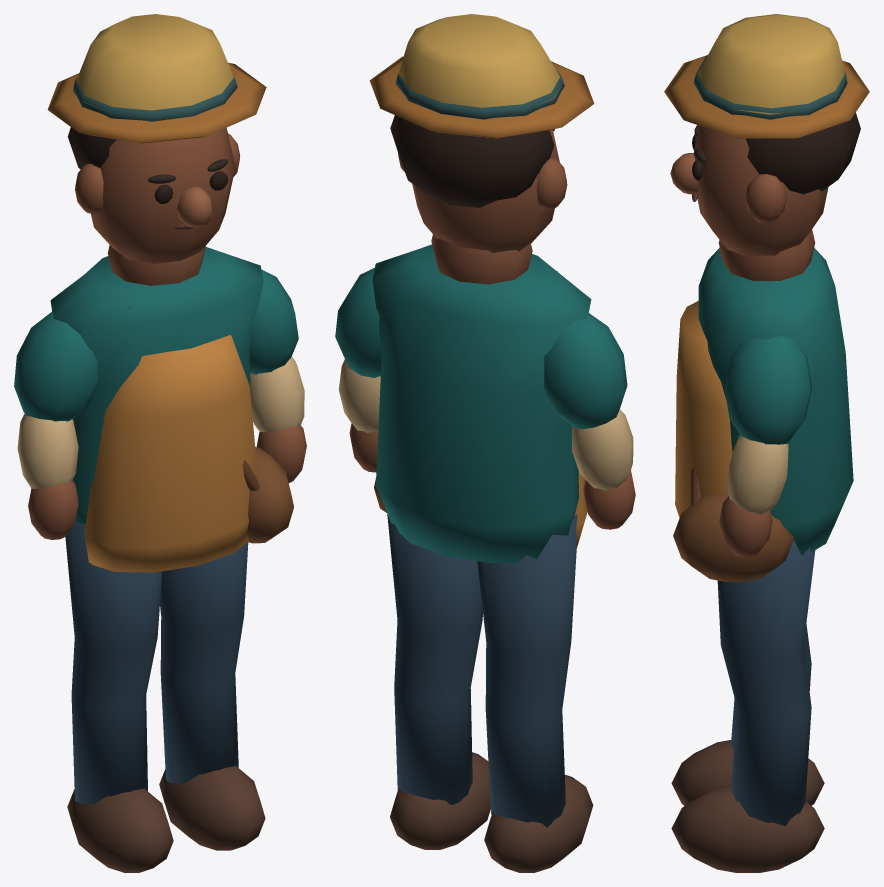
File: carpenter_village.glb
The picture shows the model from 3 angles, left to right: view 1: azimuth 30°, elevation 25°; view 2: azimuth 150°, elevation 25°; view 3: azimuth 270°, elevation 25°; orthographic projection. The views are drawn at different scales.
Parts seen in each view (by area): view 1: Body, HindL, HindR, ForeL, ForeR; view 2: Body, HindL, HindR, ForeL, ForeR; view 3: Body, HindR, ForeR, HindL.
Boxes of the visible parts, box(x1,y1,x2,y2) form: Body: box(47, 14, 293, 572); HindL: box(65, 521, 173, 872); HindR: box(159, 542, 265, 850); ForeL: box(14, 311, 97, 539); ForeR: box(249, 269, 306, 482); Body: box(369, 14, 594, 563); HindL: box(477, 514, 593, 872); HindR: box(387, 514, 490, 849); ForeL: box(543, 313, 635, 529); ForeR: box(335, 267, 381, 472); Body: box(664, 14, 869, 581); HindR: box(671, 540, 824, 872); ForeR: box(719, 336, 811, 557); HindL: box(671, 624, 824, 805).
Size of the model in its own units: 0.6207 by 1.71 by 0.392.
